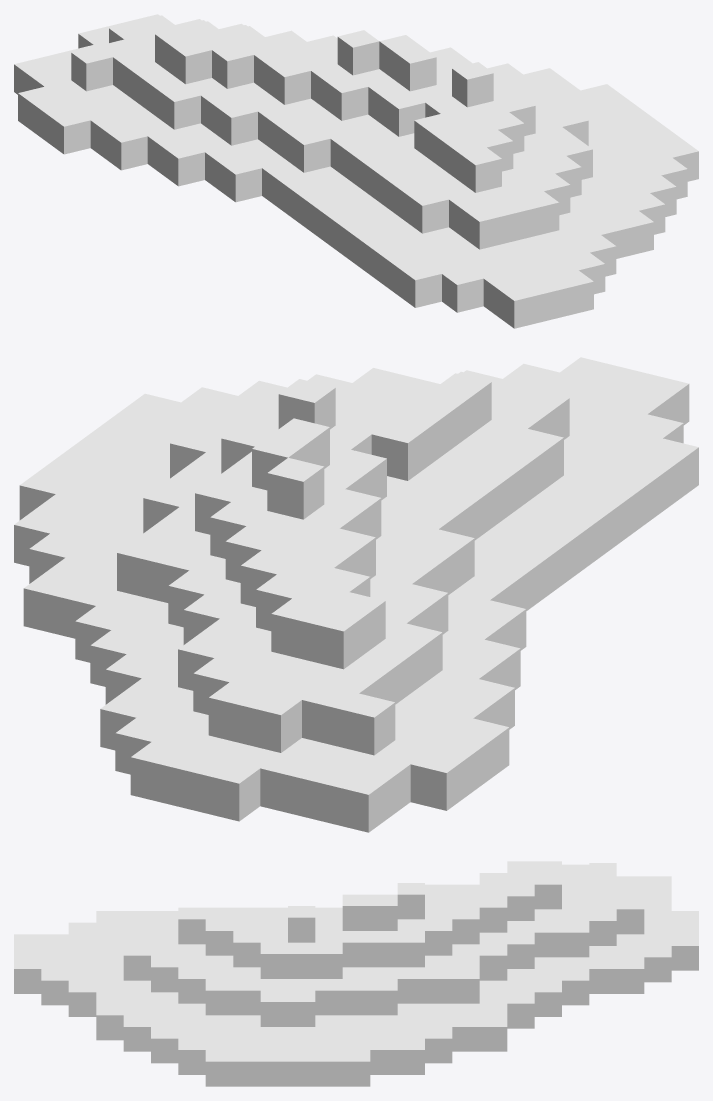
Rendered from snowhill1.obj.
The picture shows the model from 3 angles, top to bottom: view 1: azimuth 30°, elevation 25°; view 2: azimuth 150°, elevation 25°; view 3: azimuth 270°, elevation 25°; orthographic projection. The views are drawn at different scales.
Bounding box in the file's own units: 17 × 4 × 25.
1 material, 1 textured.
